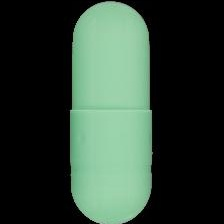61786-016: (0, 0, 224, 224)
